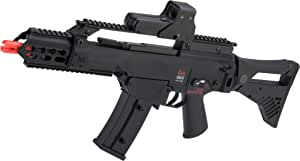weapon: (1, 1, 300, 159)
